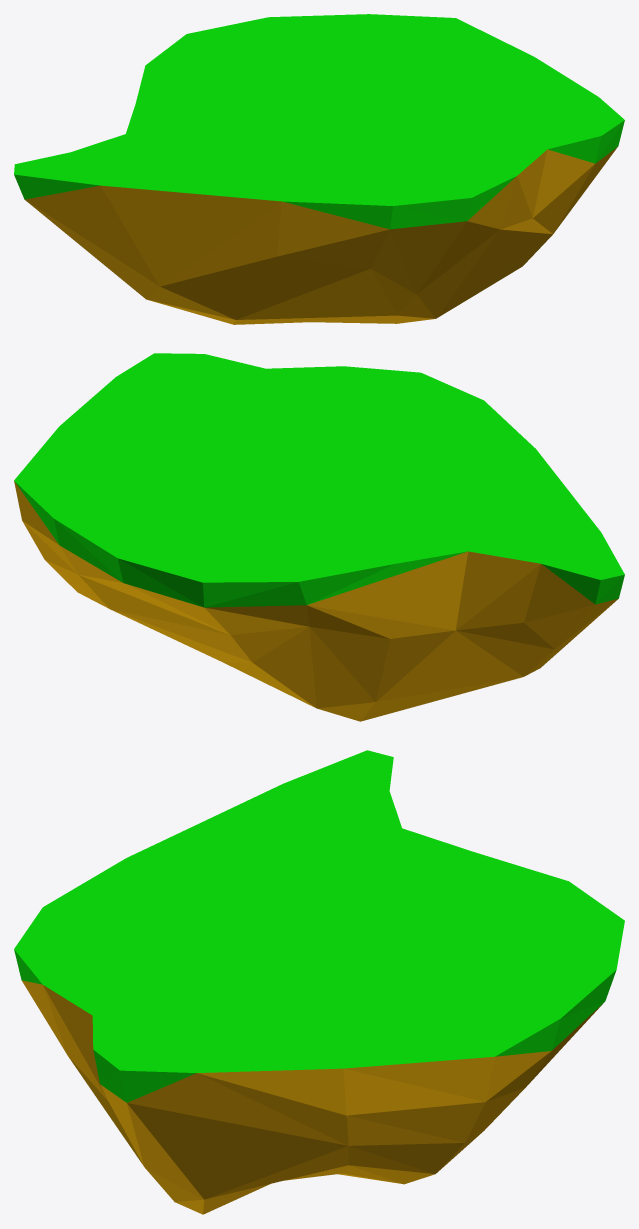
Rendered from LandChunkA.fbx.
The picture shows the model from 3 angles, top to bottom: view 1: azimuth 30°, elevation 25°; view 2: azimuth 150°, elevation 25°; view 3: azimuth 270°, elevation 25°; orthographic projection. The views are drawn at different scales.
Visible parts, largest first — view 1: LandChunkA; view 2: LandChunkA; view 3: LandChunkA.
Boxes of the visible parts, box(x1,y1,x2,y2) form: LandChunkA: box(14, 14, 624, 324); LandChunkA: box(14, 353, 624, 721); LandChunkA: box(14, 750, 624, 1214).
Size of the model in its own units: 52.22 by 17.67 by 41.76.
